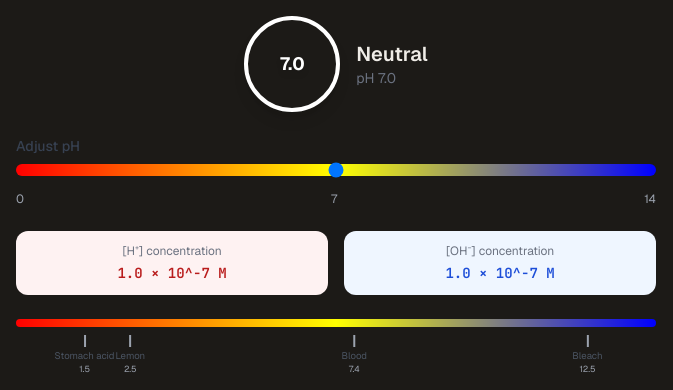
Scenario: PHScale › shows acidic label at low pH
Set the slider to "2" at (113, 170), box [16,164,656,176]
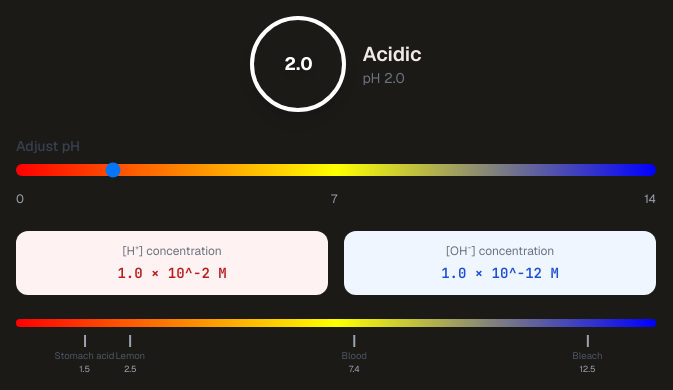
Now the text with test id "ph-label" reads "Acidic", box [362,41,422,67]
